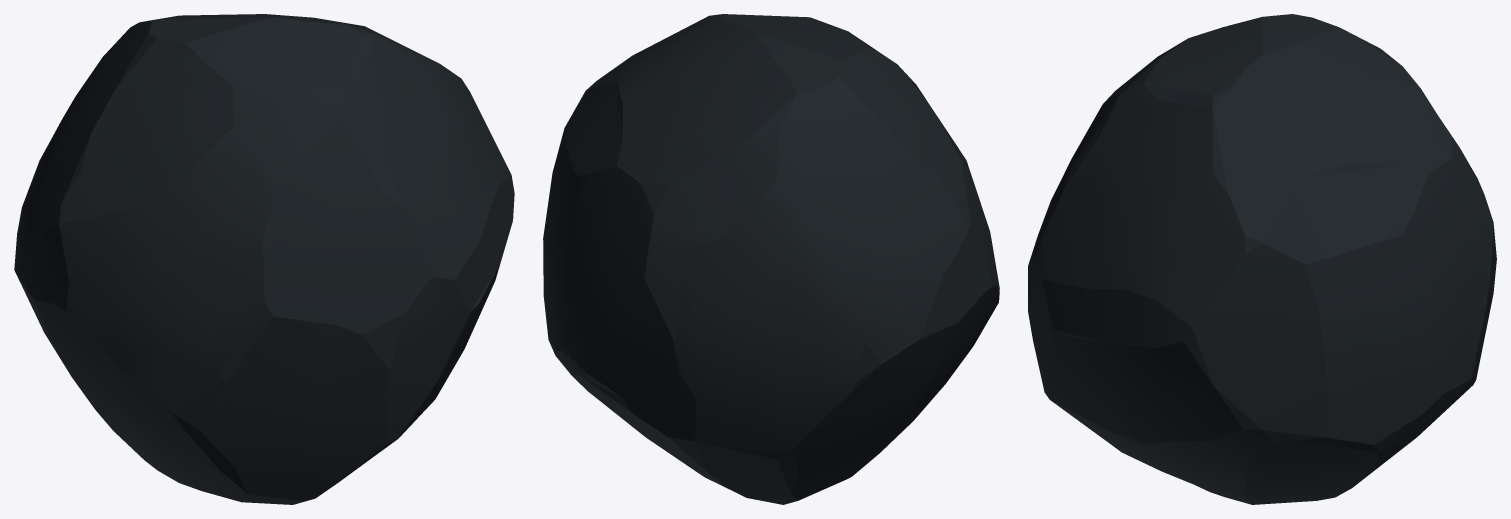
The model's file is Asteroid_m_24.FBX.
3 views of the same model, side by side, from view 1: azimuth 30°, elevation 25°; view 2: azimuth 150°, elevation 25°; view 3: azimuth 270°, elevation 25° (orthographic). The views are drawn at different scales.
Visible parts, largest first — view 1: Asteroid_m_24; view 2: Asteroid_m_24; view 3: Asteroid_m_24.
Boxes of the visible parts, bbox=[...] form: Asteroid_m_24: bbox=[14, 14, 514, 504]; Asteroid_m_24: bbox=[543, 14, 999, 504]; Asteroid_m_24: bbox=[1028, 14, 1496, 504].
Size of the model in its own units: 902 by 909 by 862.
